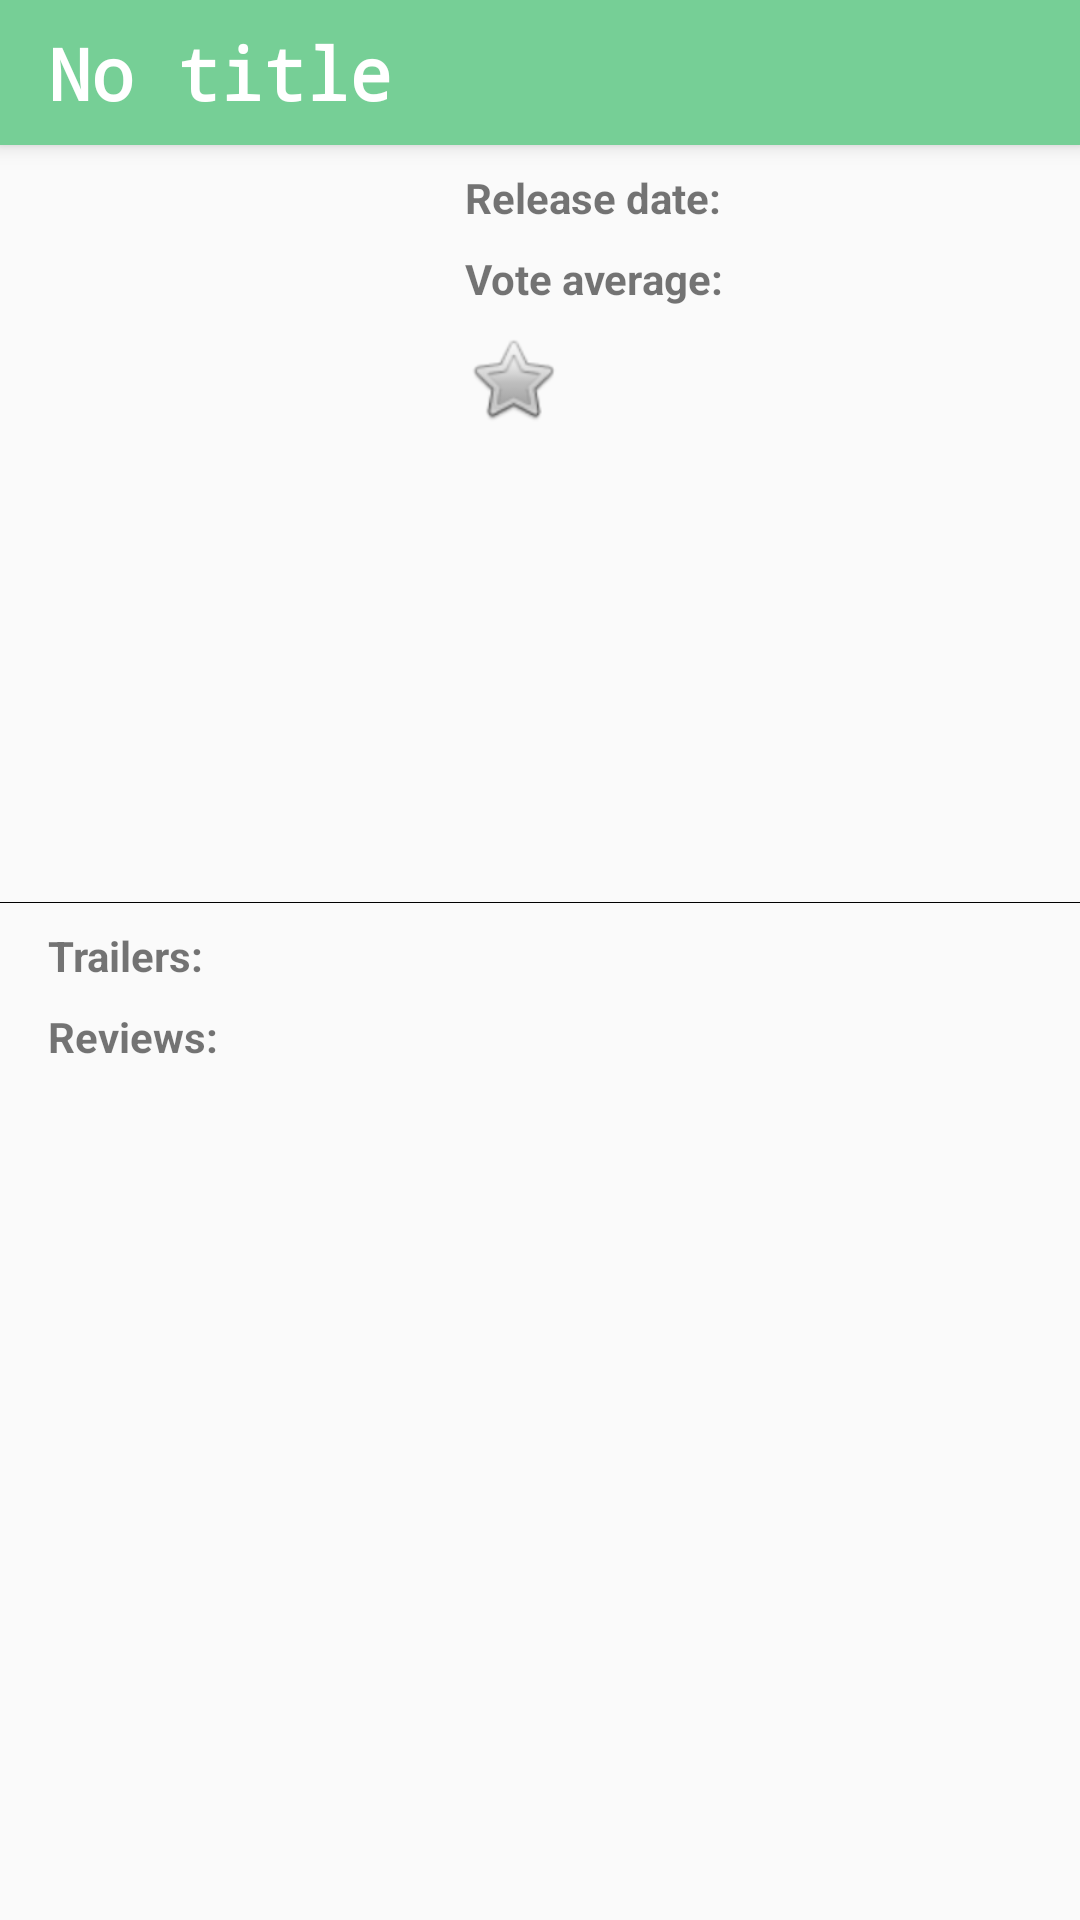

Icon click points for this 1080*1920 phone screenshot, format (x=x, y=y):
favorite movie: (x=514, y=380)
